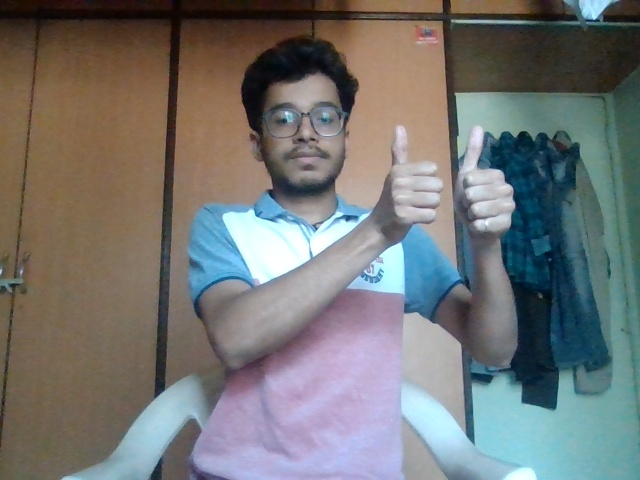thank-you: (377, 122, 536, 248)
